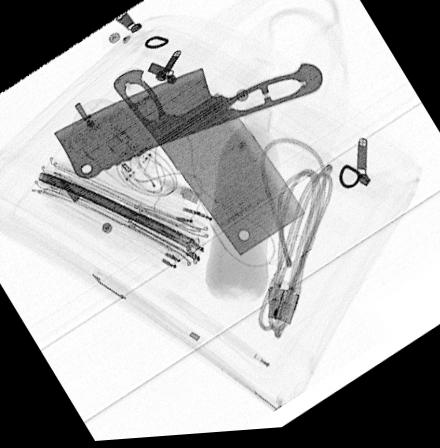Knife: (113, 71, 306, 260), (53, 66, 323, 180)
